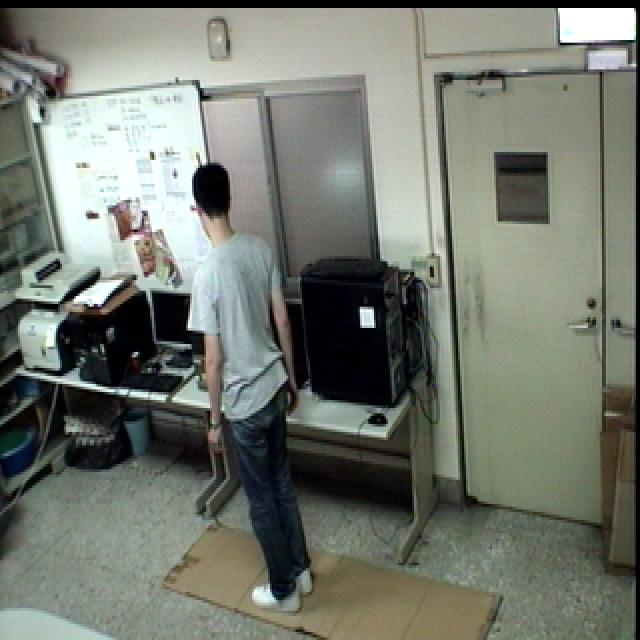stand: (182, 159, 316, 618)
